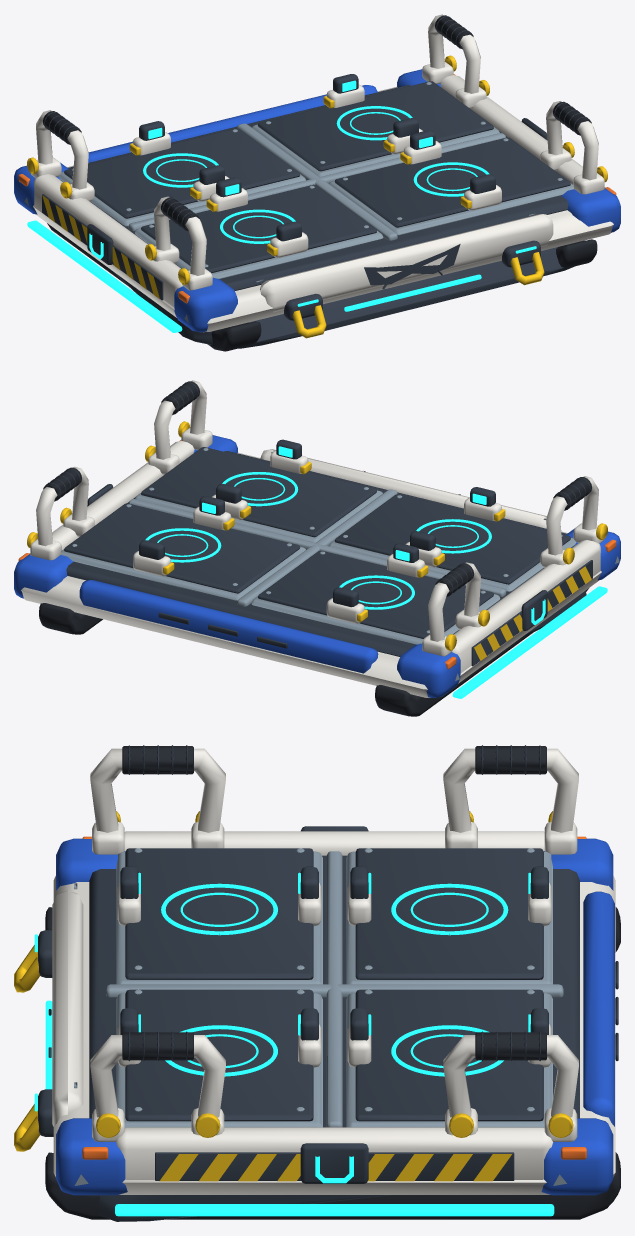
Rendered from CouchGuys_4Couch_Sled.fbx.
3 views of the same model, one above another, from view 1: azimuth 30°, elevation 25°; view 2: azimuth 150°, elevation 25°; view 3: azimuth 270°, elevation 25° (orthographic). The views are drawn at different scales.
Parts seen in each view (by area): view 1: Main_Sled_Body, Magnetic_Dock_Front_Right, Magnetic_Dock_Rear_Right, Magnetic_Dock_Front_Left, Magnetic_Dock_Rear_Left, Grab_Handle_Front_Right, Grab_Handle_Rear_Right, Grab_Handle_Front_Left, Grab_Handle_Rear_Left, Left_Runner, Front_Tow_Hook_Right, Front_Tow_Hook_Left (+1 smaller); view 2: Main_Sled_Body, Magnetic_Dock_Rear_Right, Magnetic_Dock_Front_Right, Magnetic_Dock_Rear_Left, Magnetic_Dock_Front_Left, Grab_Handle_Rear_Right, Grab_Handle_Front_Right, Grab_Handle_Rear_Left, Grab_Handle_Front_Left, Left_Runner, Right_Runner; view 3: Main_Sled_Body, Magnetic_Dock_Rear_Left, Magnetic_Dock_Front_Left, Magnetic_Dock_Rear_Right, Magnetic_Dock_Front_Right, Grab_Handle_Rear_Left, Grab_Handle_Front_Left, Grab_Handle_Front_Right, Grab_Handle_Rear_Right, Right_Runner, Front_Tow_Hook_Right, Front_Tow_Hook_Left.
Part boxes in pixels (bbox=[...]): Main_Sled_Body: bbox=[14, 69, 620, 348]; Magnetic_Dock_Front_Right: bbox=[329, 130, 573, 235]; Magnetic_Dock_Rear_Right: bbox=[252, 74, 499, 176]; Magnetic_Dock_Front_Left: bbox=[134, 177, 383, 278]; Magnetic_Dock_Rear_Left: bbox=[59, 121, 305, 226]; Grab_Handle_Front_Right: bbox=[540, 101, 607, 194]; Grab_Handle_Rear_Right: bbox=[422, 14, 489, 108]; Grab_Handle_Front_Left: bbox=[145, 196, 212, 290]; Grab_Handle_Rear_Left: bbox=[27, 110, 94, 201]; Left_Runner: bbox=[47, 223, 261, 351]; Front_Tow_Hook_Right: bbox=[502, 240, 544, 285]; Front_Tow_Hook_Left: bbox=[284, 293, 326, 338]; Main_Sled_Body: bbox=[14, 435, 620, 698]; Magnetic_Dock_Rear_Right: bbox=[61, 496, 305, 601]; Magnetic_Dock_Front_Right: bbox=[135, 439, 382, 542]; Magnetic_Dock_Rear_Left: bbox=[251, 543, 500, 644]; Magnetic_Dock_Front_Left: bbox=[329, 487, 575, 592]; Grab_Handle_Rear_Right: bbox=[27, 466, 94, 560]; Grab_Handle_Front_Right: bbox=[145, 380, 212, 474]; Grab_Handle_Rear_Left: bbox=[422, 562, 489, 656]; Grab_Handle_Front_Left: bbox=[540, 476, 607, 567]; Left_Runner: bbox=[375, 588, 588, 716]; Right_Runner: bbox=[39, 603, 102, 634]; Main_Sled_Body: bbox=[45, 826, 618, 1221]; Magnetic_Dock_Rear_Left: bbox=[346, 848, 552, 984]; Magnetic_Dock_Front_Left: bbox=[116, 848, 322, 984]; Magnetic_Dock_Rear_Right: bbox=[346, 989, 552, 1127]; Magnetic_Dock_Front_Right: bbox=[116, 989, 322, 1127]; Grab_Handle_Rear_Left: bbox=[443, 745, 578, 854]; Grab_Handle_Front_Left: bbox=[90, 745, 225, 854]; Grab_Handle_Front_Right: bbox=[90, 1031, 225, 1141]; Grab_Handle_Rear_Right: bbox=[443, 1031, 578, 1141]; Right_Runner: bbox=[45, 1152, 620, 1219]; Front_Tow_Hook_Right: bbox=[14, 1089, 53, 1151]; Front_Tow_Hook_Left: bbox=[14, 930, 52, 992].
Bounding box in the file's own units: 5.88 × 1.67 × 4.64.
